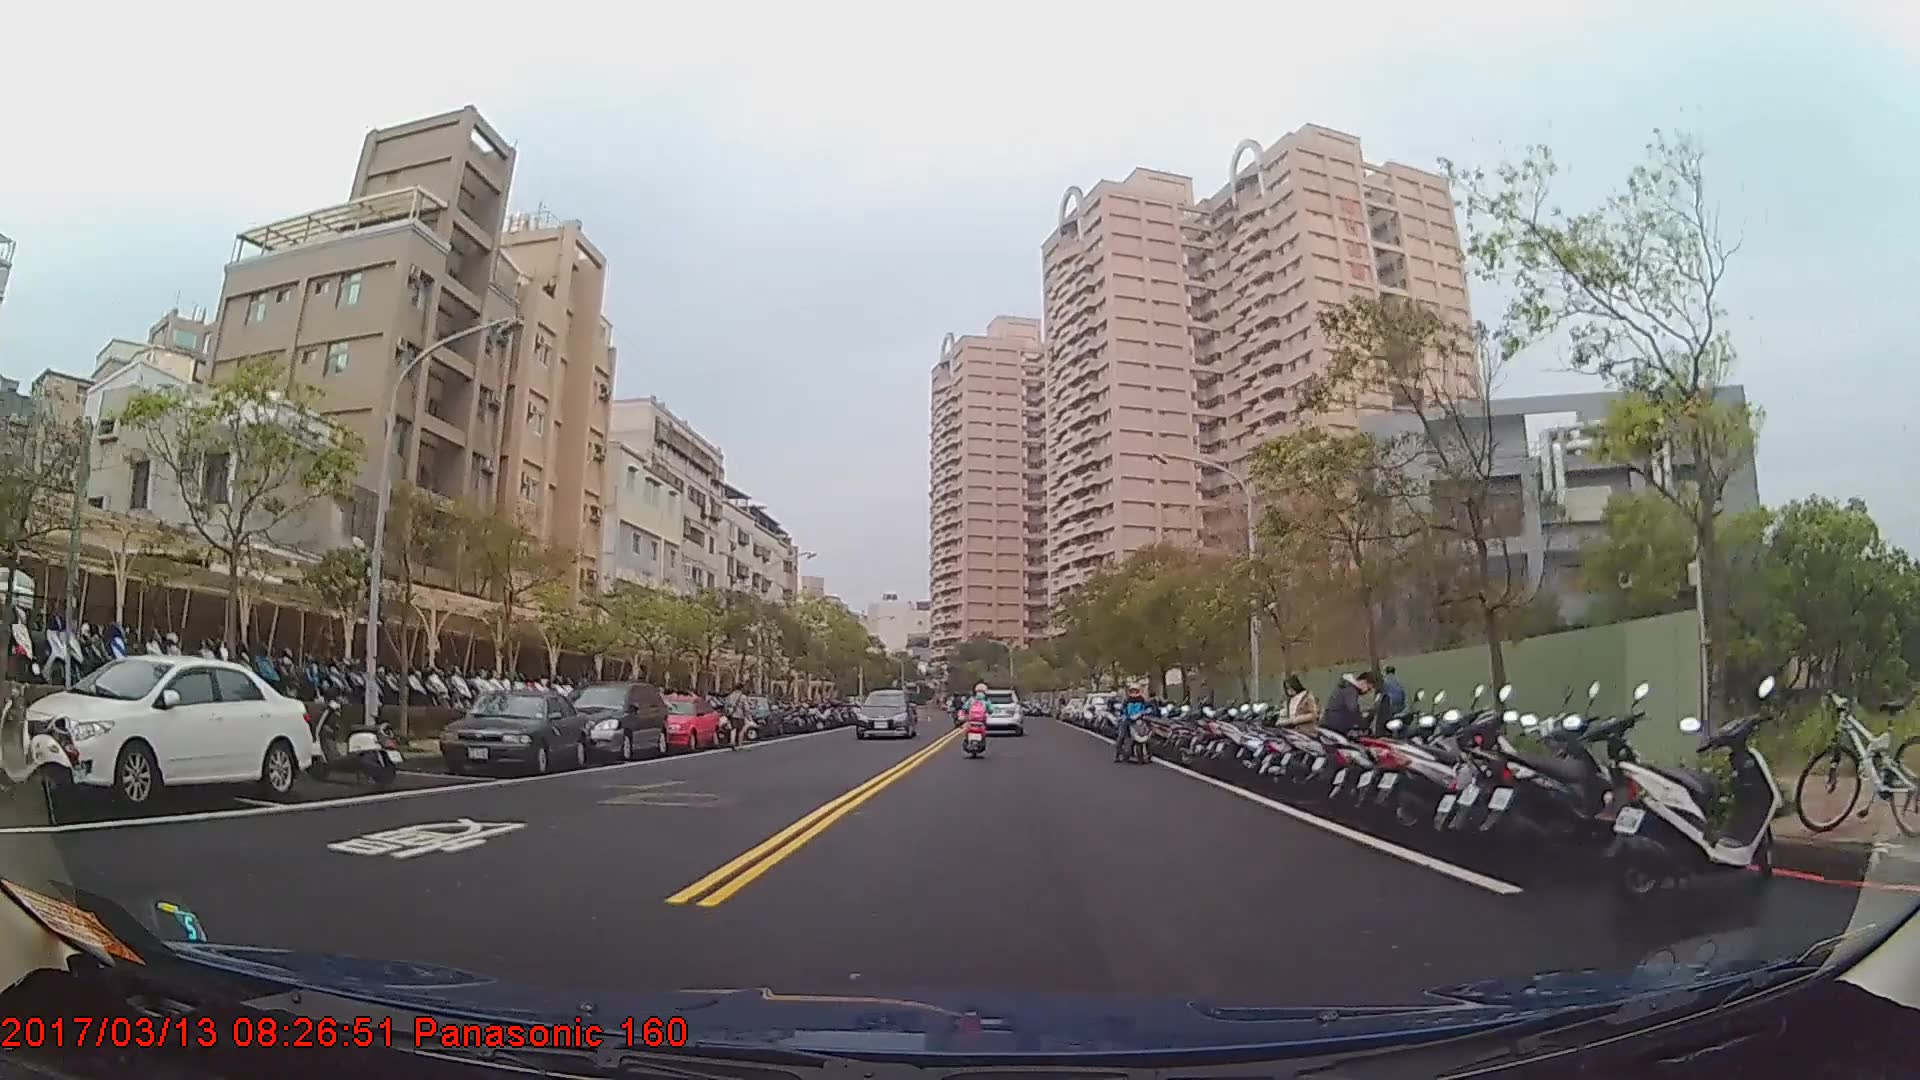pedestrian: (1320, 669, 1384, 804), (1276, 675, 1327, 801), (1380, 667, 1412, 752), (724, 682, 755, 752)
rider: (1113, 682, 1156, 767), (962, 683, 993, 754)
vehicle: (18, 652, 312, 807), (436, 687, 588, 776), (562, 682, 669, 762), (635, 690, 720, 749), (855, 686, 917, 739), (969, 688, 1023, 736)
